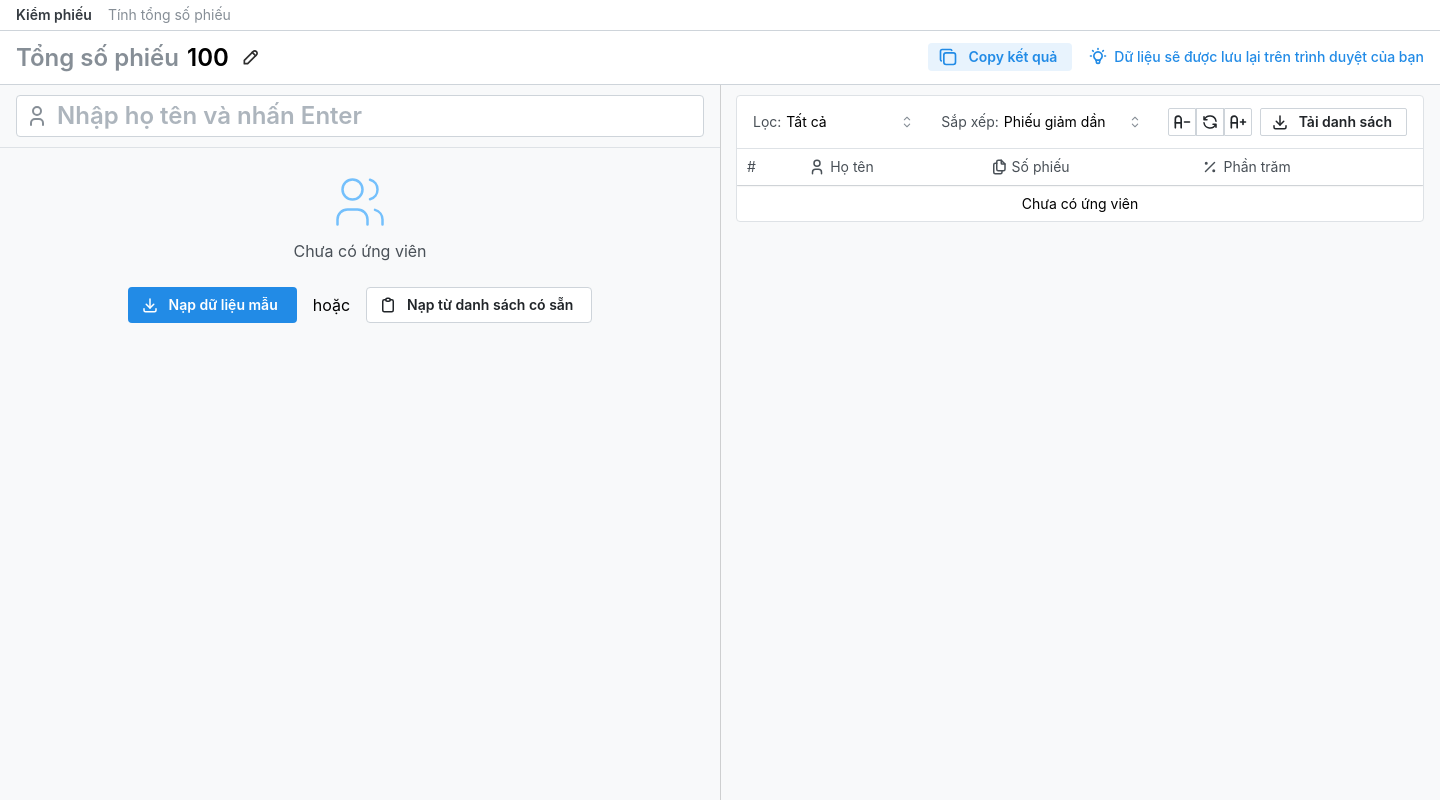
Test: testing vote › can add new candidates
Step 1. Type "John Doe" into the field with test id "new-candidate" → (360, 116), box top-left (16, 95), bottom-right (704, 137)
Then press Enter
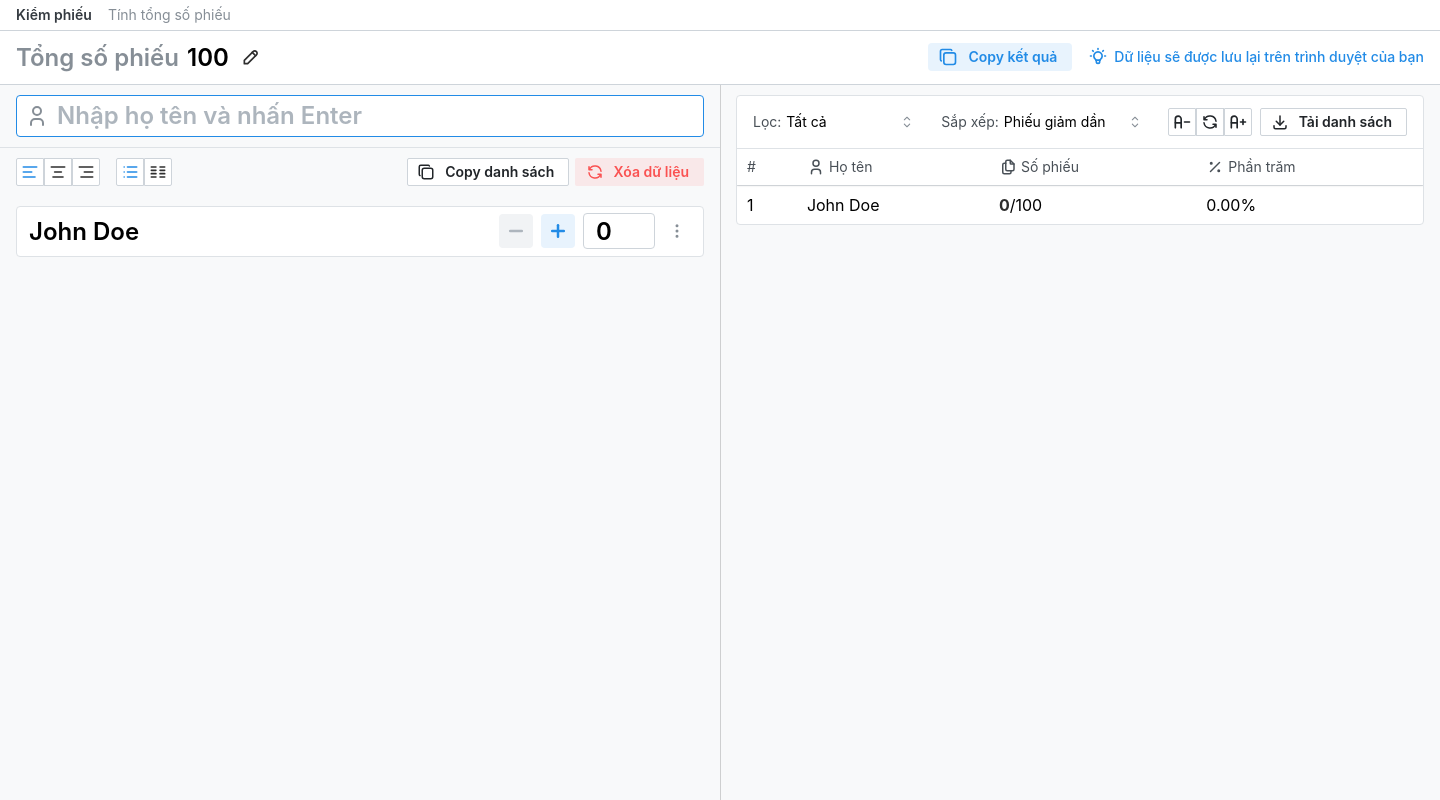
Now the number of elements with test id "candidate-item" is 1, box top-left (16, 206), bottom-right (704, 257)
Now the element with test id "candidate-item" reads "John Doe", box top-left (16, 206), bottom-right (704, 257)
Now the cell "John Doe" is shown, box top-left (797, 185), bottom-right (989, 224)
